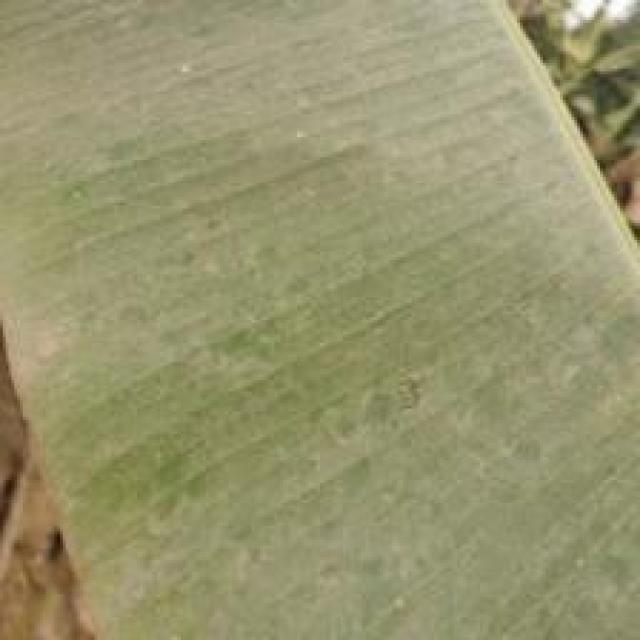Black_leaf_spot: (0, 2, 598, 594)
